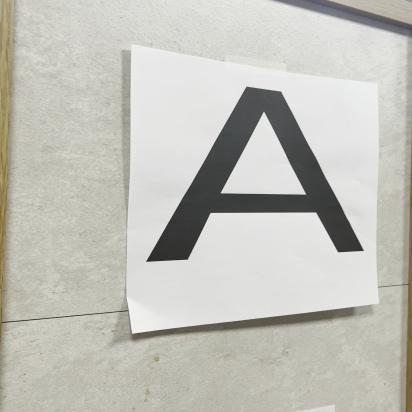seat: (130, 69, 375, 272)
